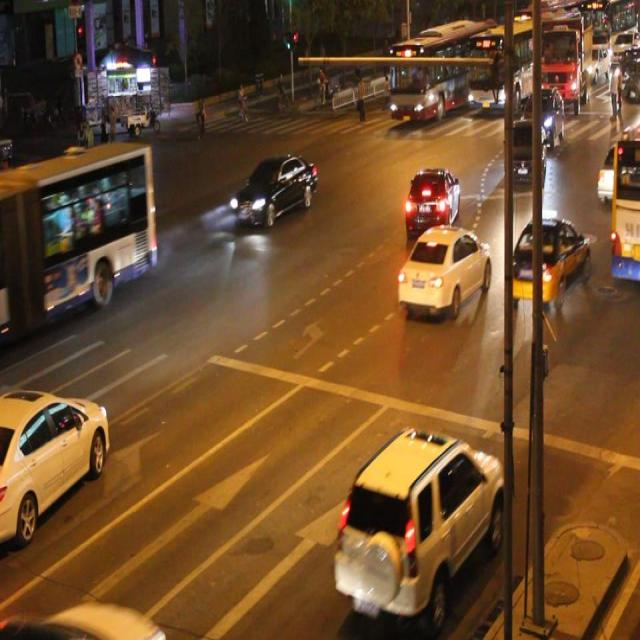car: (336, 427, 502, 614), (1, 388, 109, 536), (396, 223, 491, 315), (506, 218, 588, 302), (233, 153, 316, 229), (403, 167, 460, 240), (502, 120, 544, 187)
van: (1, 143, 153, 333), (610, 118, 640, 280)
